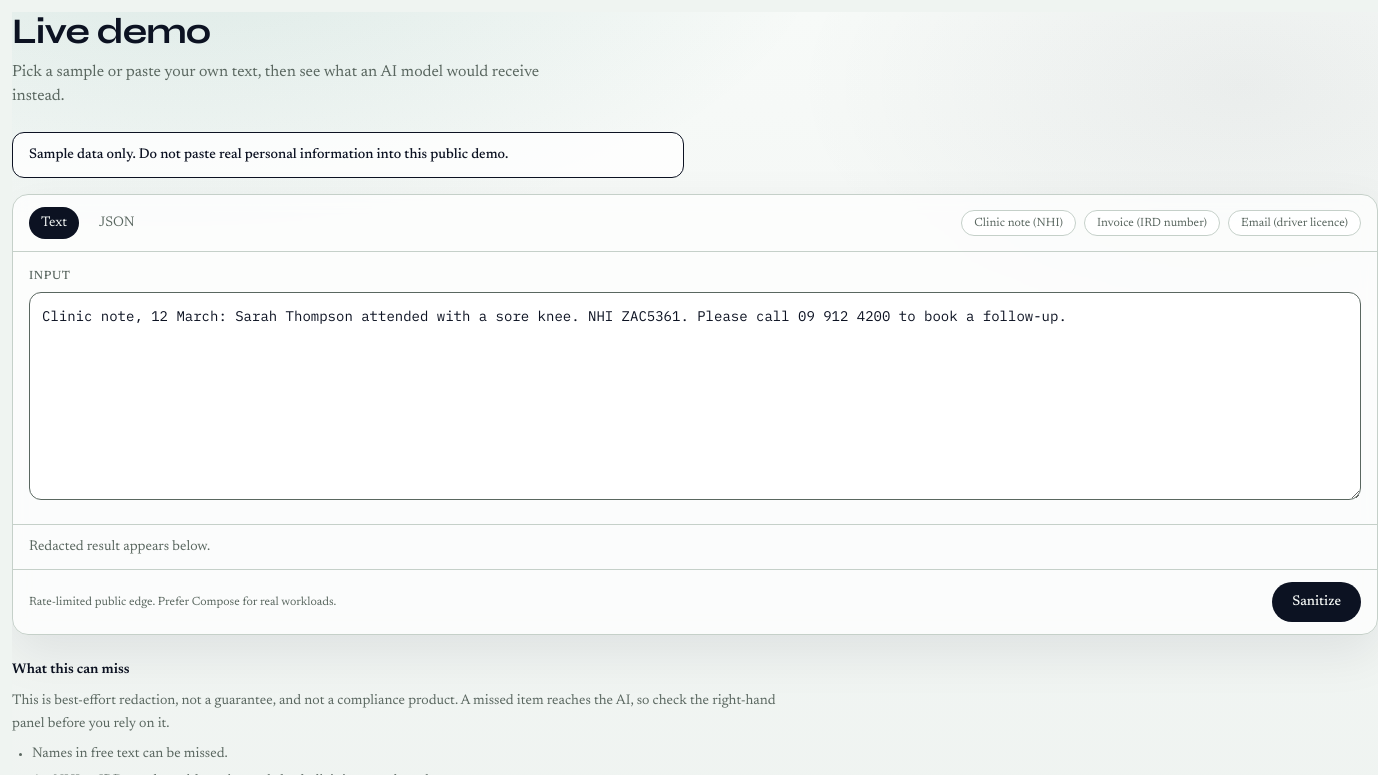
Test case: Playground › shows our generic message for a 500 with a non-JSON body
Click the button "Sanitize" at x=1317, y=602, box [1272,582,1361,622]
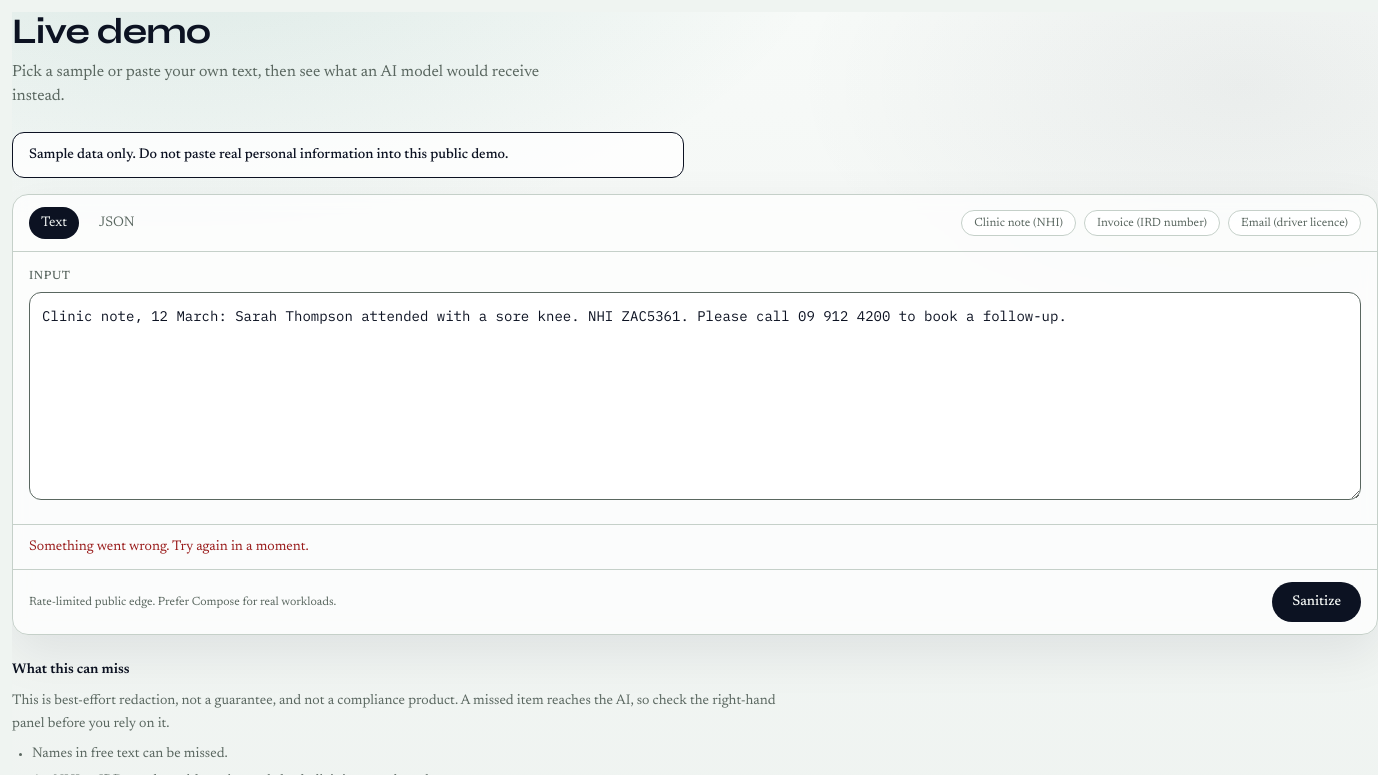
Result: the message shows "Something went wrong" at [29,540,309,554]
